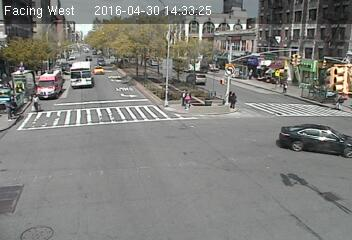neg: (108, 104, 136, 142), (330, 42, 351, 70), (72, 63, 91, 88), (293, 118, 312, 143), (301, 41, 319, 65), (279, 44, 292, 62), (251, 36, 262, 51), (323, 58, 332, 71)
pos: (26, 92, 42, 113), (332, 94, 347, 113), (184, 93, 197, 110), (280, 80, 292, 96), (231, 92, 242, 107), (246, 68, 256, 82)
